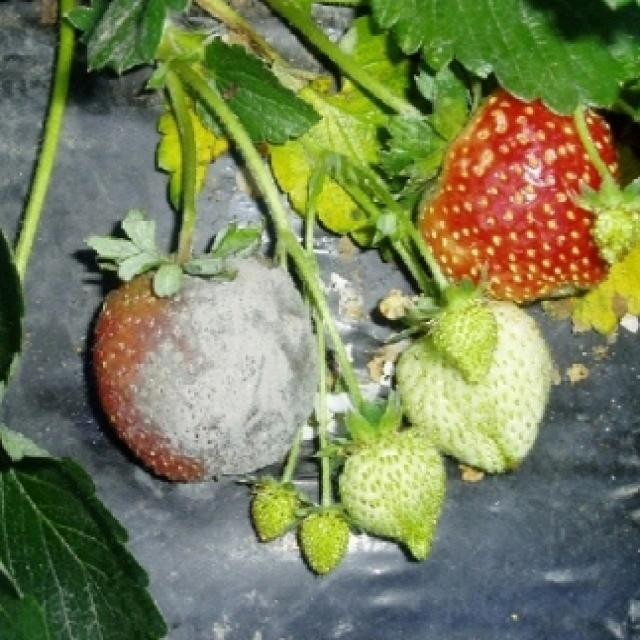Gray Mold: (92, 255, 321, 480)
